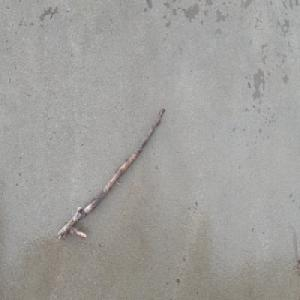Wood: (56, 106, 167, 242)
